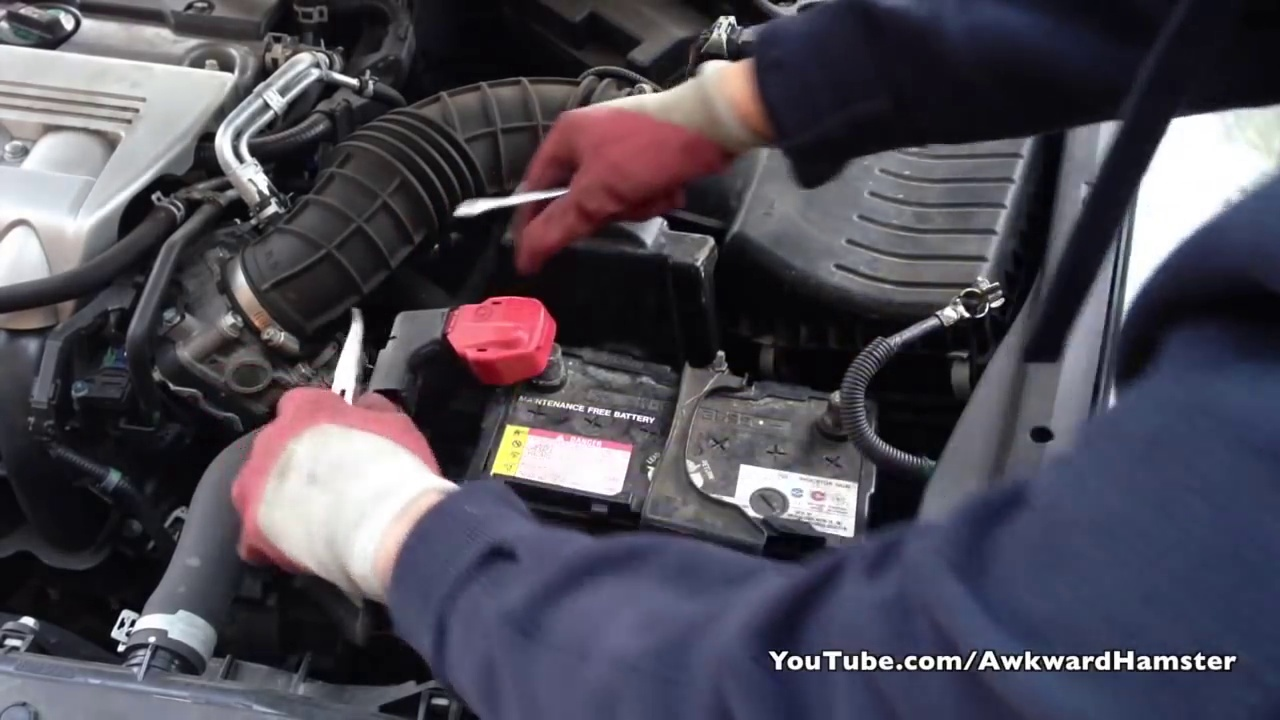battery: (459, 334, 876, 561)
neg_disconnected: (790, 365, 894, 462)
pos_connected: (437, 289, 578, 406)
